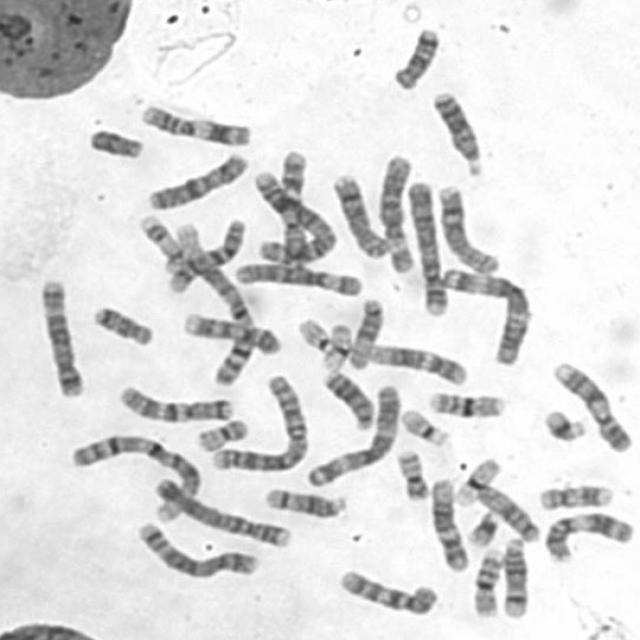A1: (169, 218, 256, 389), (67, 430, 204, 526)
A2: (208, 371, 310, 474), (249, 165, 339, 266)
A3: (301, 380, 404, 488), (437, 264, 532, 366)
B4: (148, 472, 294, 548), (403, 178, 448, 317)
B5: (133, 518, 262, 580), (36, 275, 86, 399)
C10: (164, 214, 248, 295), (334, 566, 441, 618)
C11: (136, 101, 254, 148), (539, 507, 634, 564)
C12: (360, 340, 468, 386), (427, 474, 469, 572)
C6: (230, 257, 364, 299), (375, 150, 416, 273)
C7: (115, 381, 235, 424), (278, 148, 312, 268)
C8: (433, 181, 501, 275), (327, 170, 392, 260)
C9: (550, 358, 632, 454), (179, 308, 284, 356)
D13: (429, 86, 485, 177), (319, 366, 374, 432)
D14: (260, 484, 350, 520), (499, 534, 530, 620)
D15: (473, 482, 542, 544), (345, 294, 385, 370)
E16: (468, 547, 504, 618), (424, 388, 506, 419)
E17: (136, 210, 185, 272), (536, 479, 615, 512)
E18: (389, 24, 442, 91), (90, 301, 155, 348)
F19: (452, 454, 502, 508), (318, 322, 352, 372)
F20: (392, 446, 432, 502), (193, 415, 251, 453)
G21: (539, 406, 589, 444), (464, 506, 502, 548)
G22: (398, 405, 452, 448), (294, 314, 332, 353)
X: (144, 150, 252, 212)
Y: (84, 124, 147, 160)
